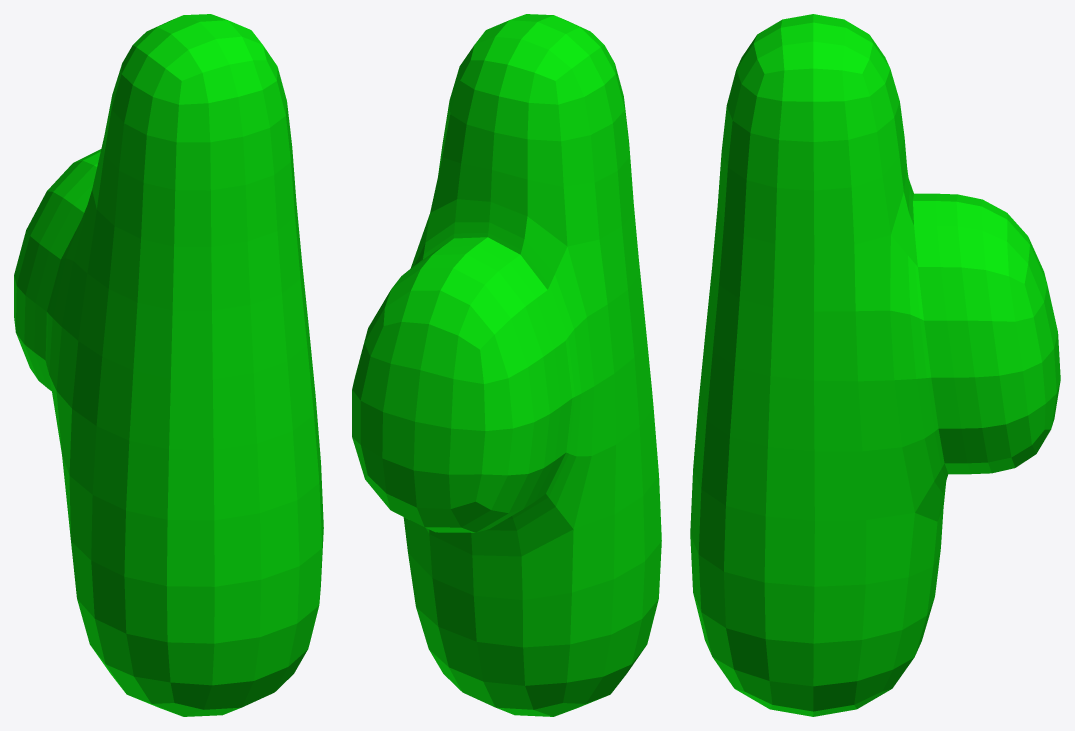
Rendered from cactus.gltf.
3 renders of one model, left to right at view 1: azimuth 30°, elevation 25°; view 2: azimuth 150°, elevation 25°; view 3: azimuth 270°, elevation 25°, orthographic.
Parts seen in each view (by area): view 1: Cube; view 2: Cube; view 3: Cube.
Part boxes in pixels (box(x1,y1,x2,y2)): Cube: box(14, 14, 323, 716); Cube: box(352, 14, 661, 716); Cube: box(690, 14, 1060, 716).
Size of the model in its own units: 1.8 by 5.46 by 2.69.
